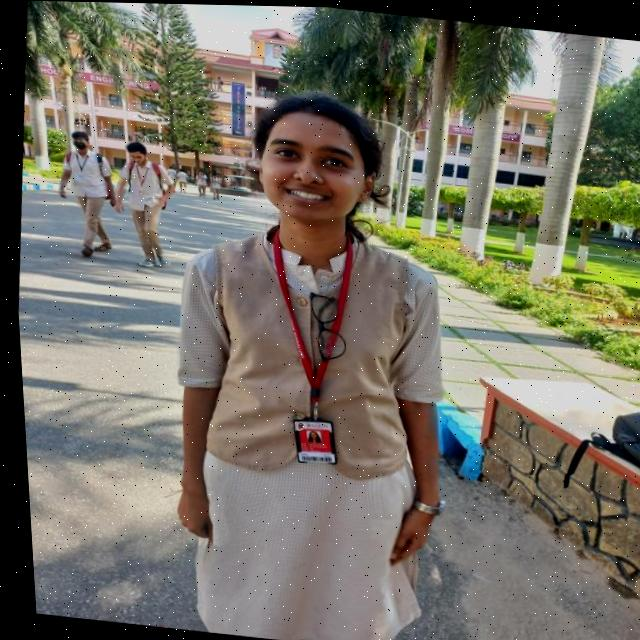id_card: (249, 226, 365, 473)
